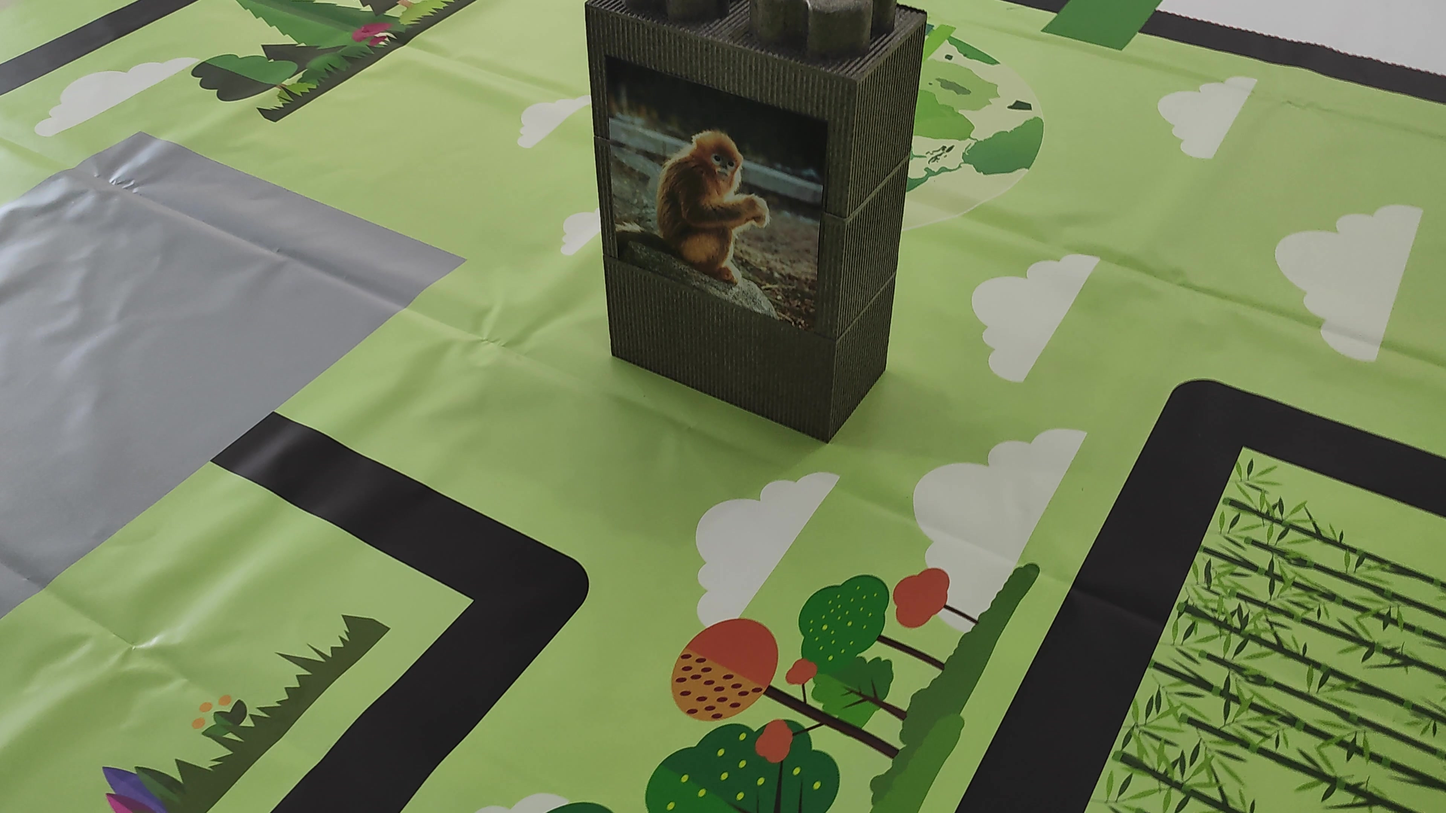monkey: (610, 102, 789, 301)
